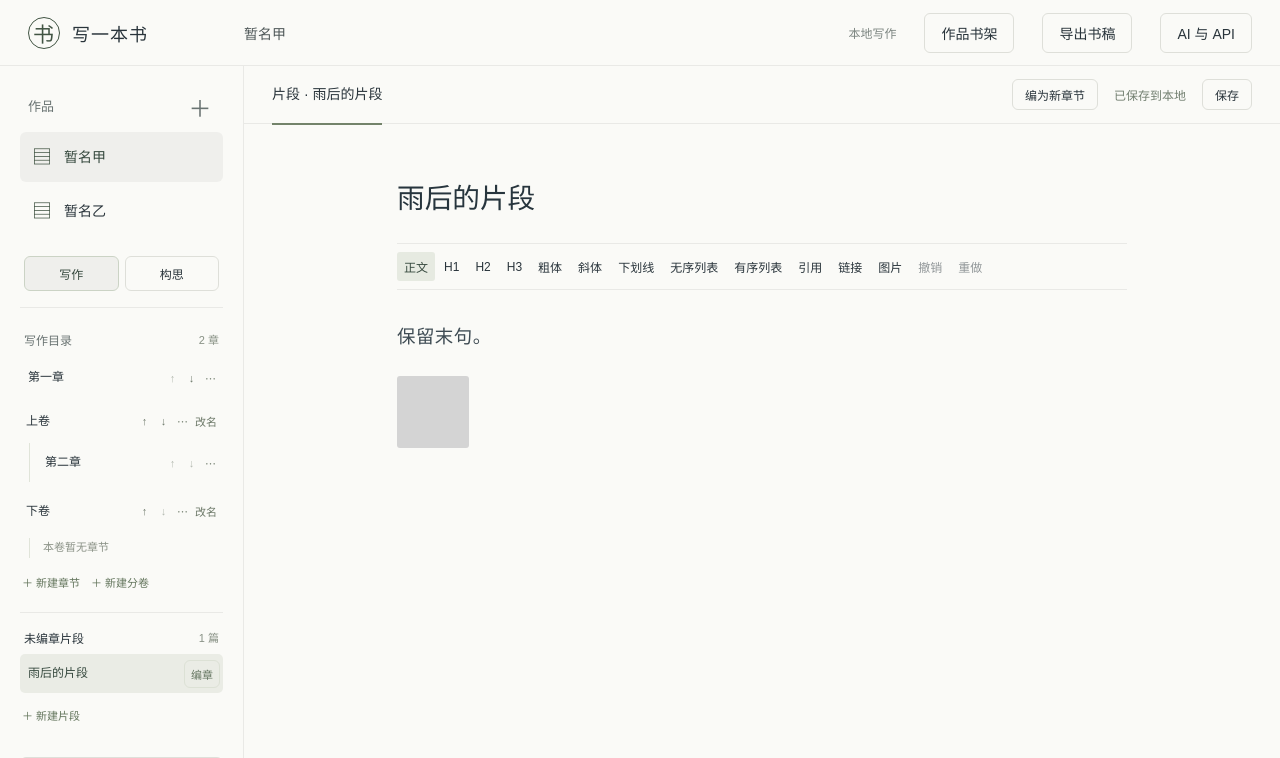
confirms compiling the same rich fragment, retains its image identity, and leaves no fragment duplicate
The image size is (1280, 758).
Click the button "编为新章节": x=1055, y=94 [1012,79,1098,110]
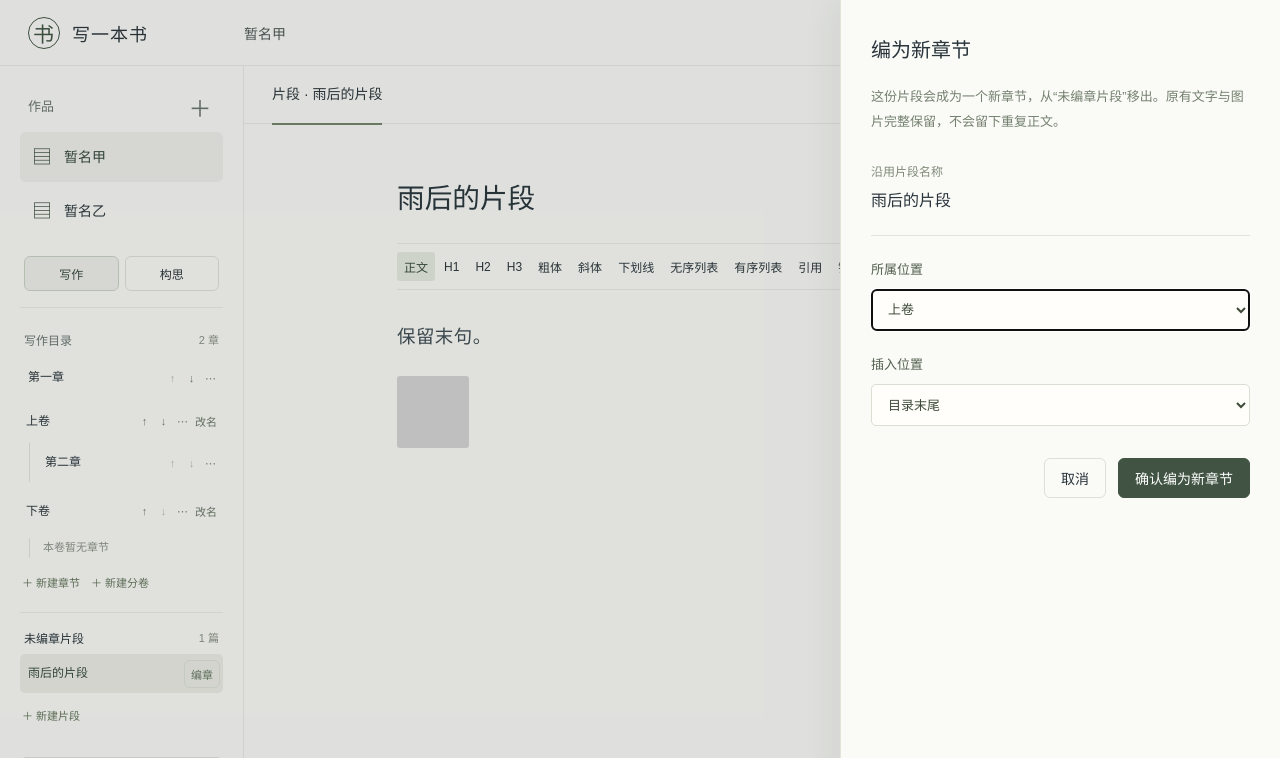
Check: the dialog shows "不会留下重复正文", box [871,89,1244,129]
Select "上卷" in the dropdown with id "structure-parent": x=1060, y=310 [871,289,1250,331]
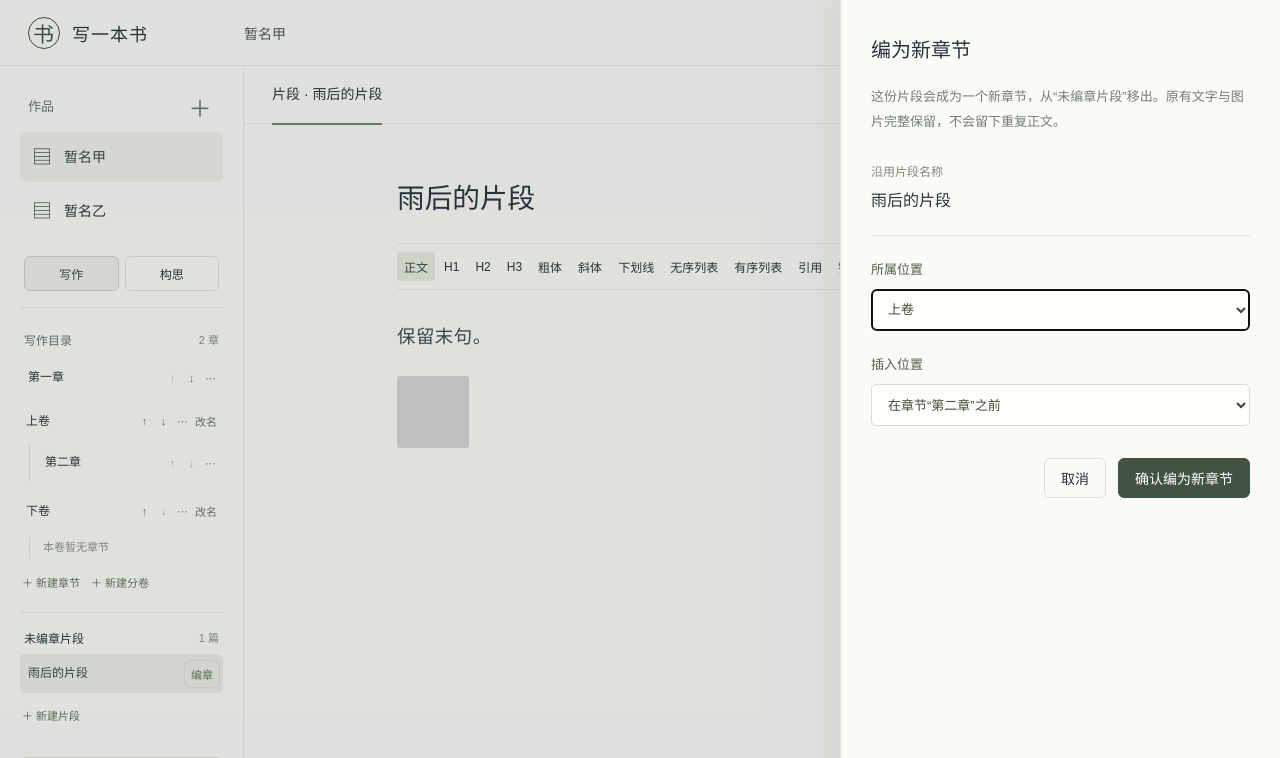
Select "chapter-a2" in the dropdown with id "structure-before": x=1060, y=405 [871,384,1250,426]
Check: the button "确认编为新章节" is shown
Click the button "确认编为新章节": x=1184, y=478 [1118,458,1250,498]
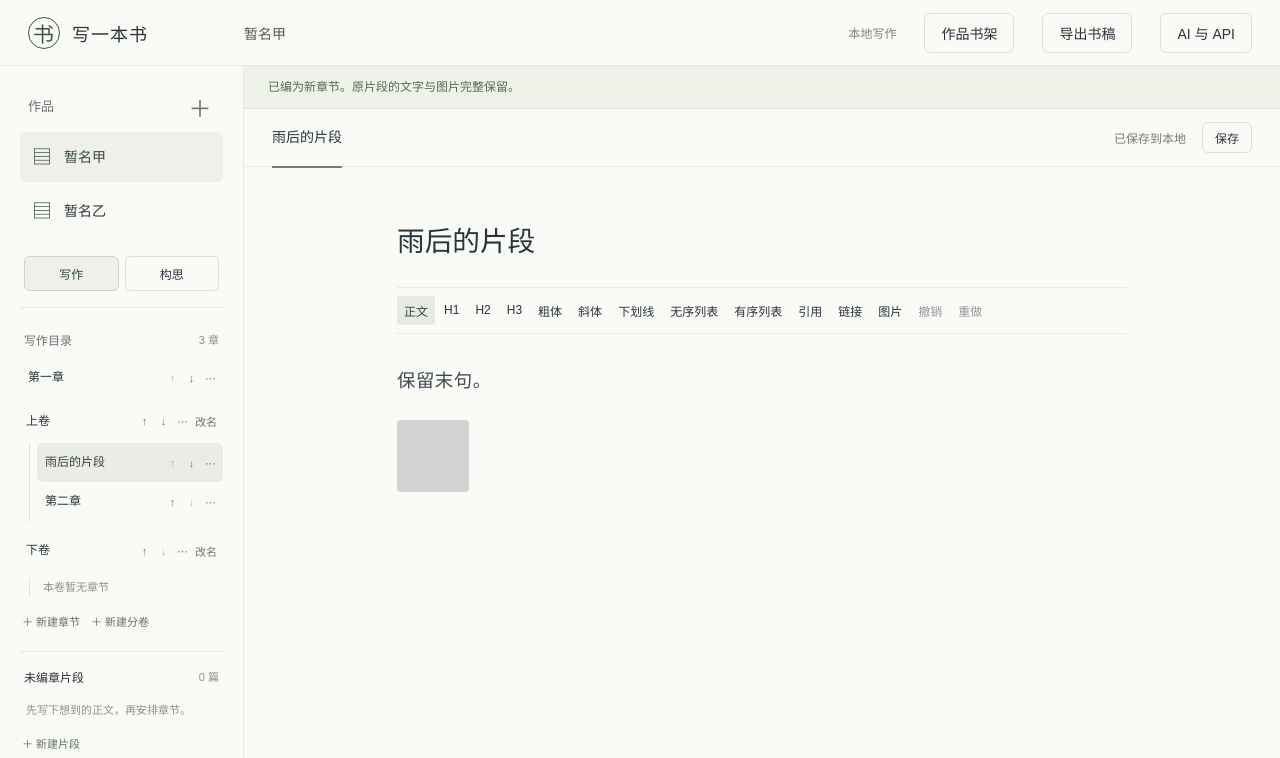
Check: the field with id "chapter-body" reads "保留末句。", box [397,371,492,492]
Check: the element named "未编章片段" no longer shows "雨后的片段"
Check: the navigation bar named "卷章目录" shows "雨后的片段", box [43,446,160,479]
